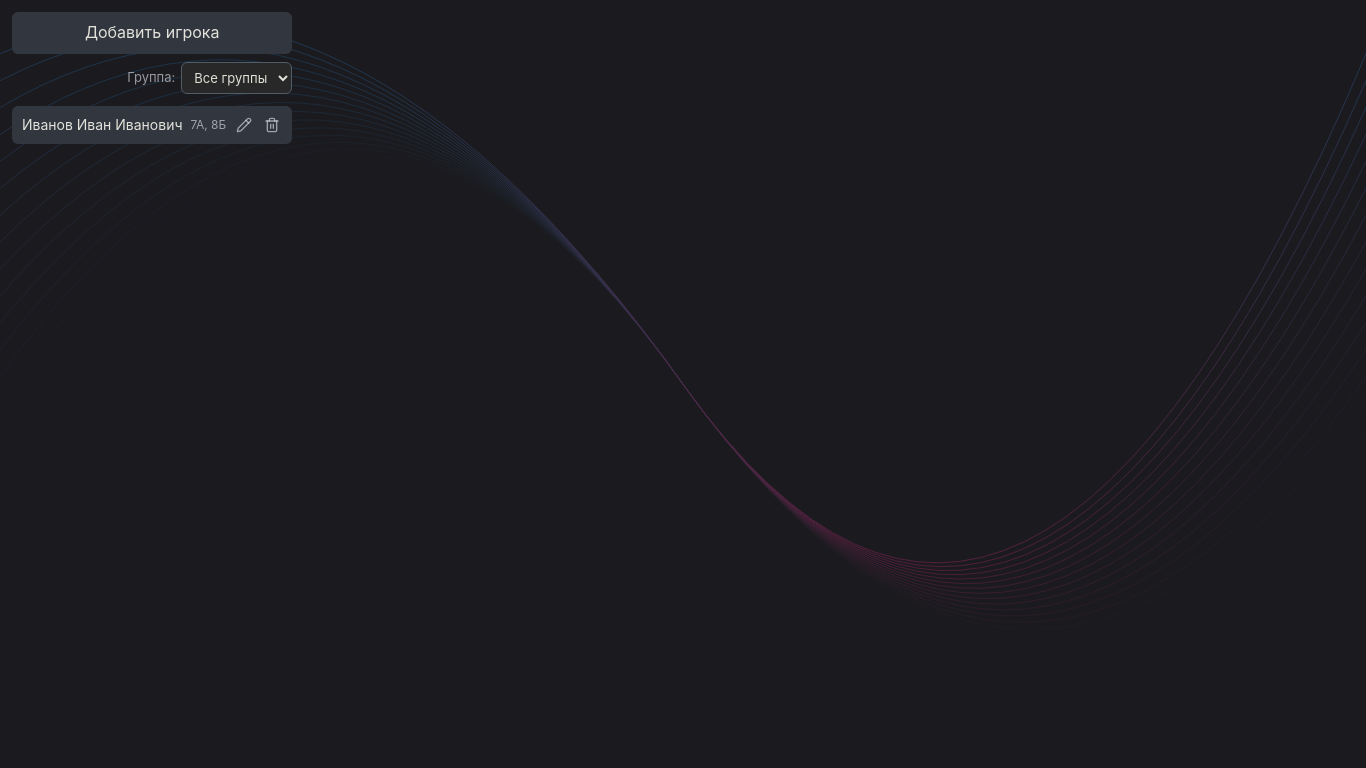
Test case: PlayersPanel › deletes a player after confirmation
Expected: the text "Иванов Иван Иванович" is shown, [22,114,182,136]
Click the button named "Удалить: Иванов" at (272, 125), box [262,115,282,135]
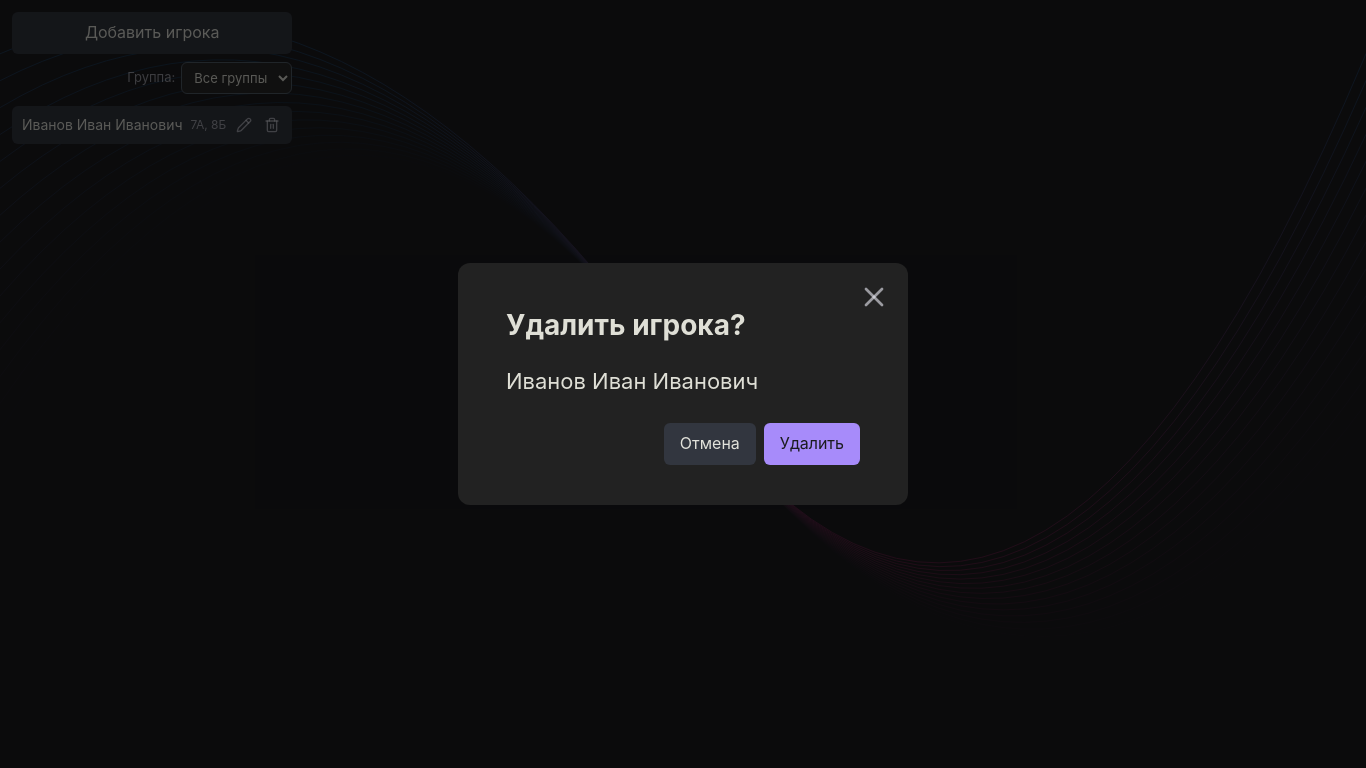
Click the button "Удалить" at (812, 444), box [764,423,860,465]
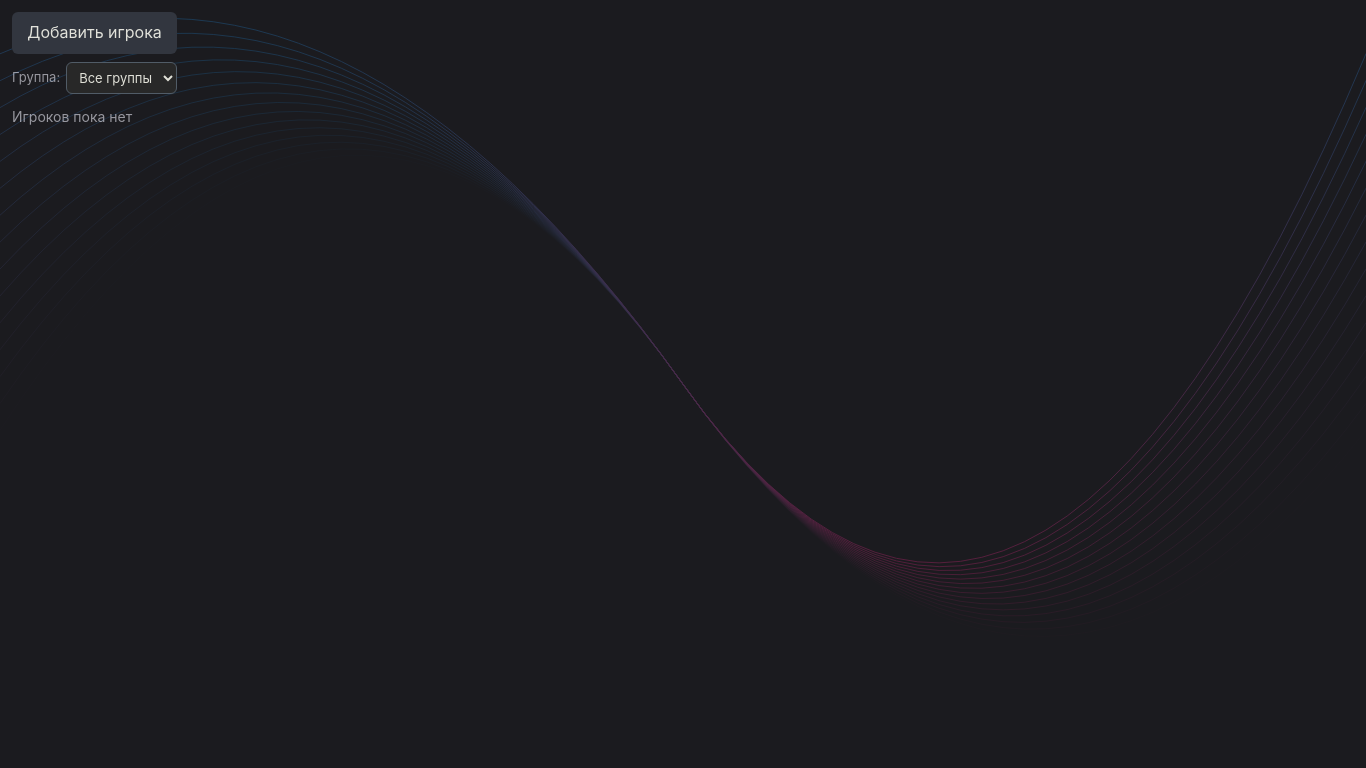
Expected: the text "Иванов Иван Иванович" is gone
